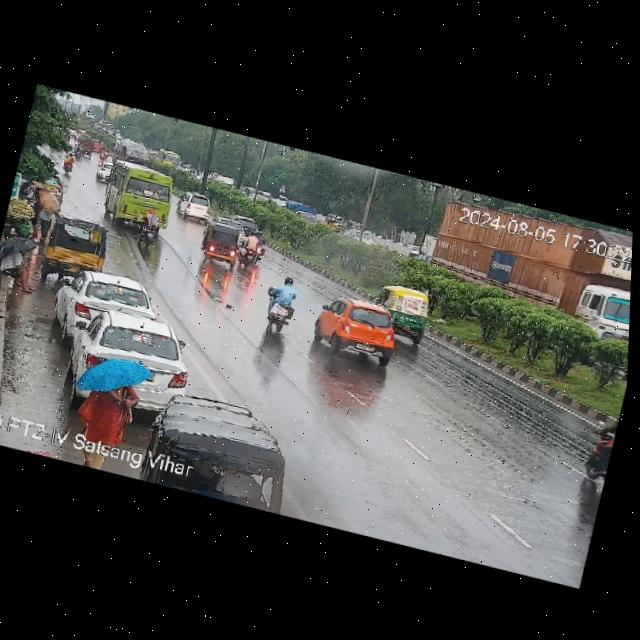bus: (98, 157, 186, 241), (157, 142, 188, 171)
car: (61, 302, 197, 422), (151, 391, 301, 484), (46, 259, 168, 355), (308, 276, 406, 376), (37, 197, 113, 290), (376, 281, 447, 341), (189, 214, 253, 280), (175, 187, 213, 226), (341, 219, 381, 245), (229, 210, 263, 234), (94, 159, 117, 190), (325, 208, 348, 233)
motorcycle: (572, 399, 622, 498), (256, 272, 311, 344), (132, 202, 168, 255), (236, 228, 261, 268), (249, 224, 271, 268), (56, 150, 82, 179), (93, 147, 109, 164)
person: (65, 349, 155, 448), (0, 230, 47, 295), (29, 192, 61, 244), (20, 182, 39, 218)
truck: (428, 194, 634, 315), (285, 196, 322, 231)
